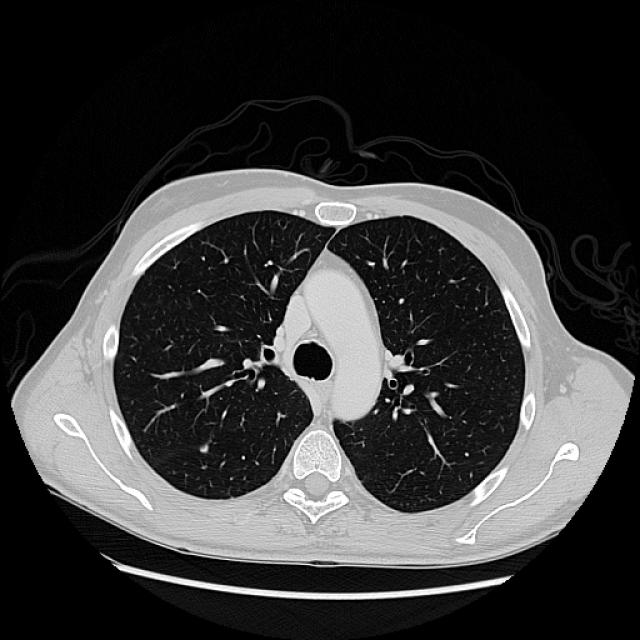nodule: (193, 436, 215, 459)
